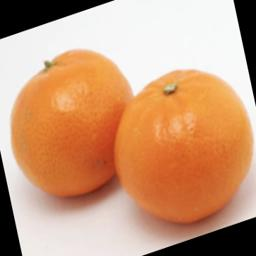Orange Fresh: (7, 12, 256, 232)
